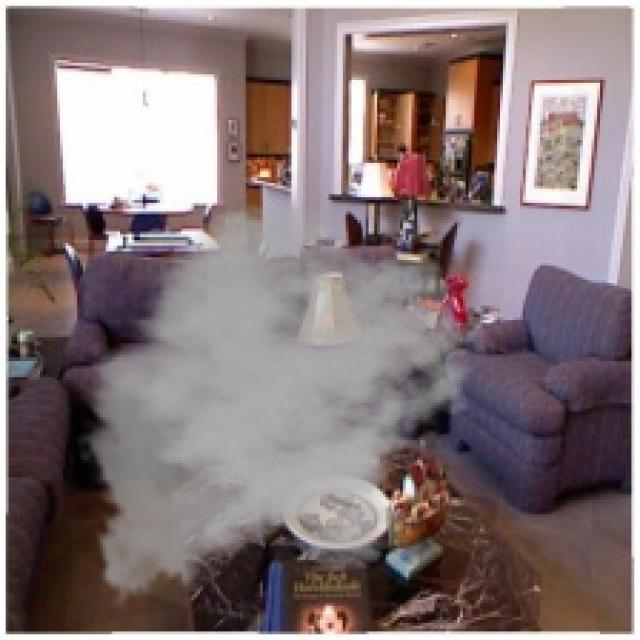smoke: (74, 203, 486, 614)
